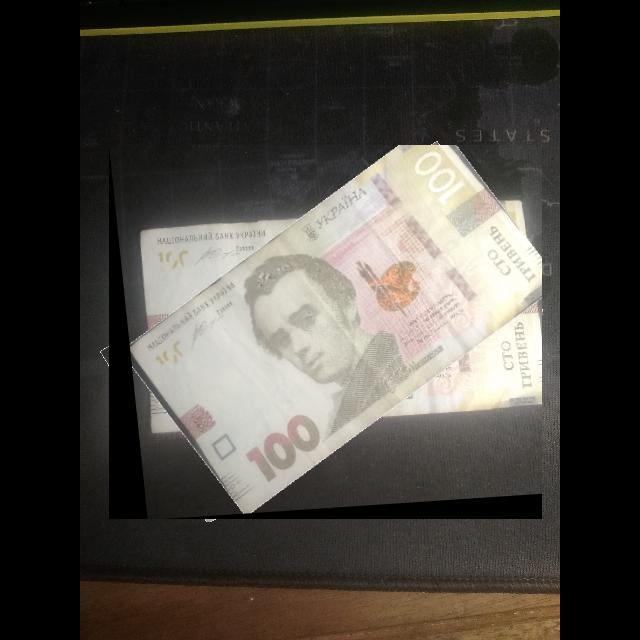100uah: (126, 145, 543, 515)
